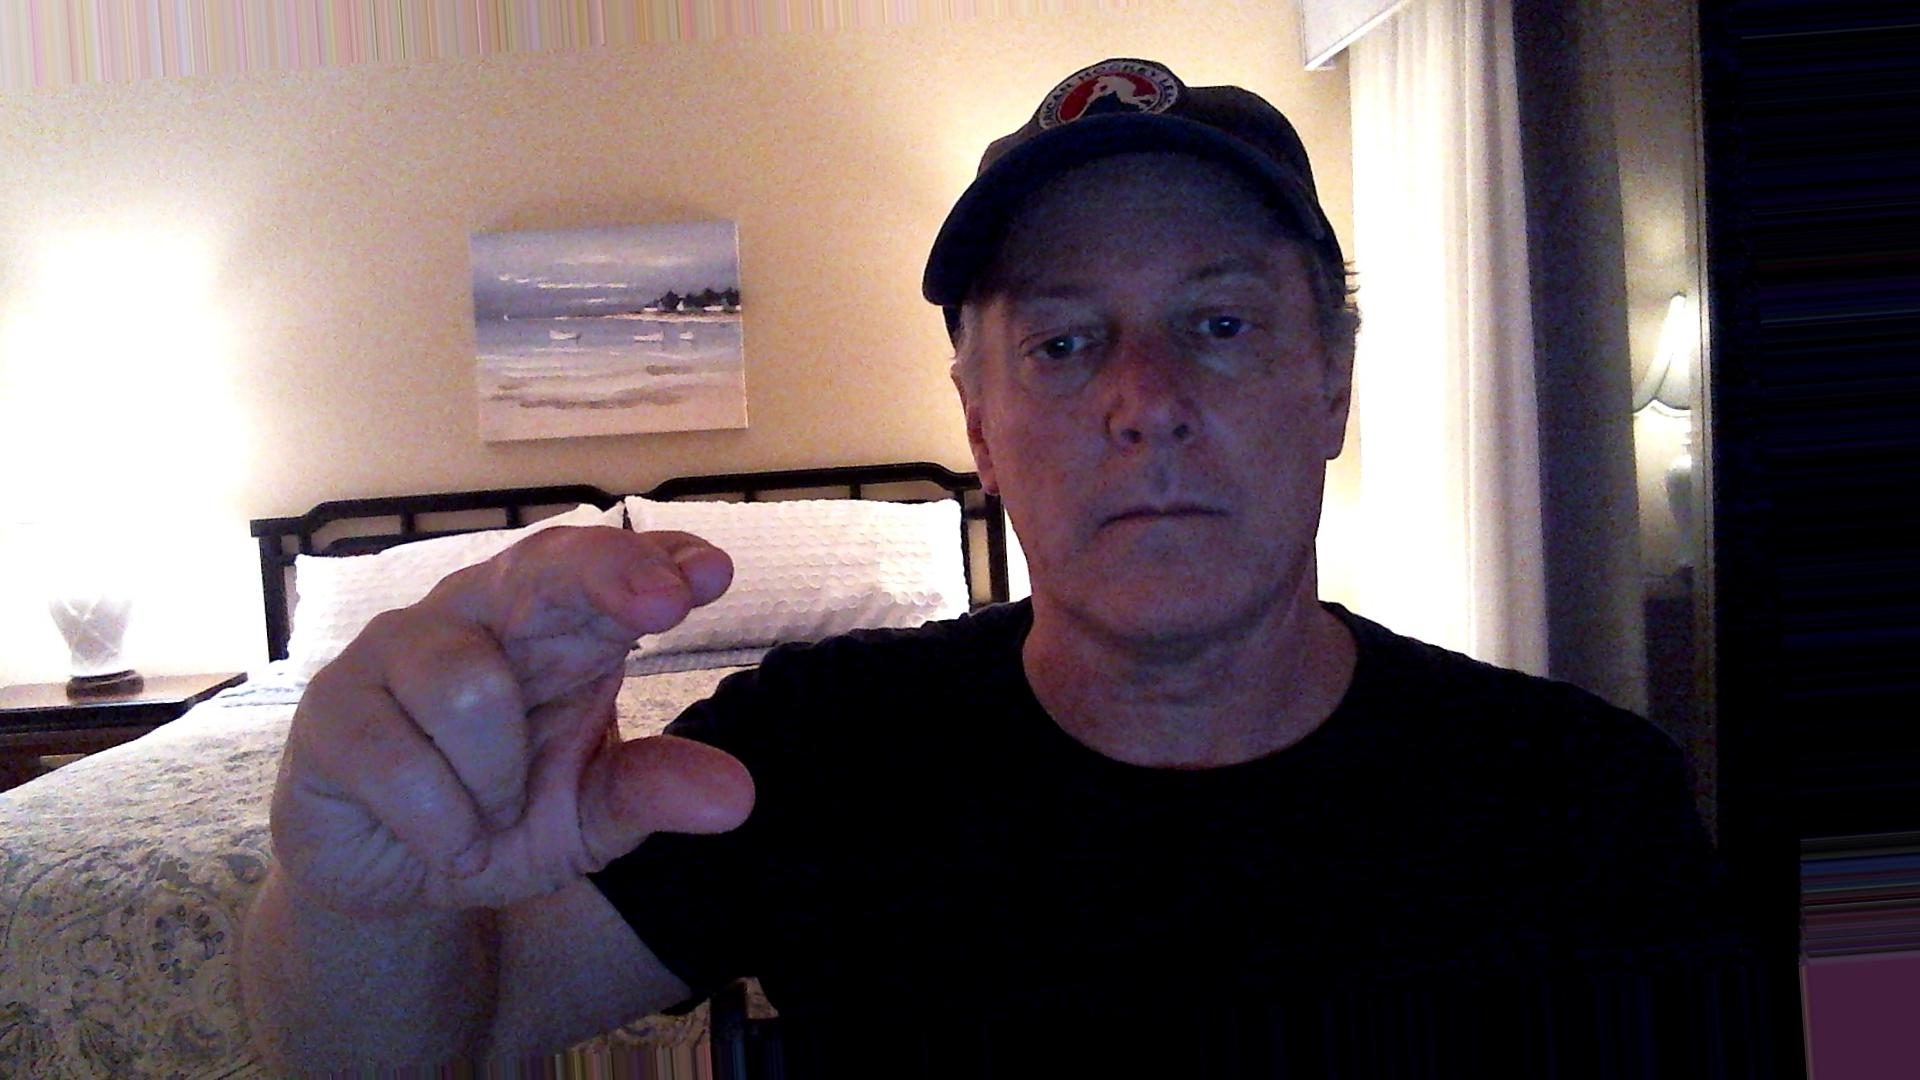No: (247, 510, 777, 940)
